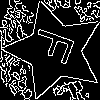F: (30, 25, 85, 70)
